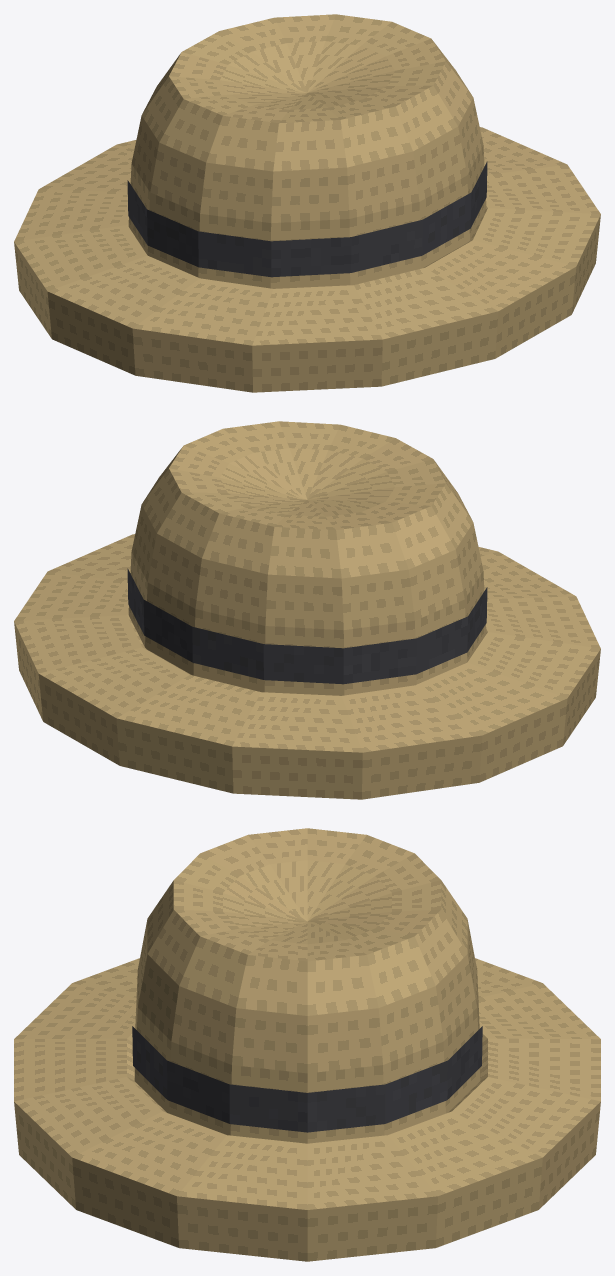
File: straw_fedora.glb
3 renders of one model, top to bottom at view 1: azimuth 30°, elevation 25°; view 2: azimuth 150°, elevation 25°; view 3: azimuth 270°, elevation 25°, orthographic. The views are drawn at different scales.
Parts seen in each view (by area): view 1: block_hat brim or band, block_tall crown, block_hatband; view 2: block_hat brim or band, block_tall crown, block_hatband; view 3: block_hat brim or band, block_tall crown, block_hatband.
Boxes of the visible parts, x1,y1,x2,y2 form: block_hat brim or band: [14, 127, 600, 392]; block_tall crown: [128, 14, 486, 288]; block_hatband: [127, 161, 487, 277]; block_hat brim or band: [14, 534, 600, 799]; block_tall crown: [128, 421, 486, 695]; block_hatband: [127, 568, 487, 684]; block_hat brim or band: [14, 958, 600, 1261]; block_tall crown: [134, 828, 480, 1143]; block_hatband: [132, 1026, 482, 1132].
Bounding box in the file's own units: 0.2768 × 0.106 × 0.2456.
Materials: 1 (1 with a texture image).
